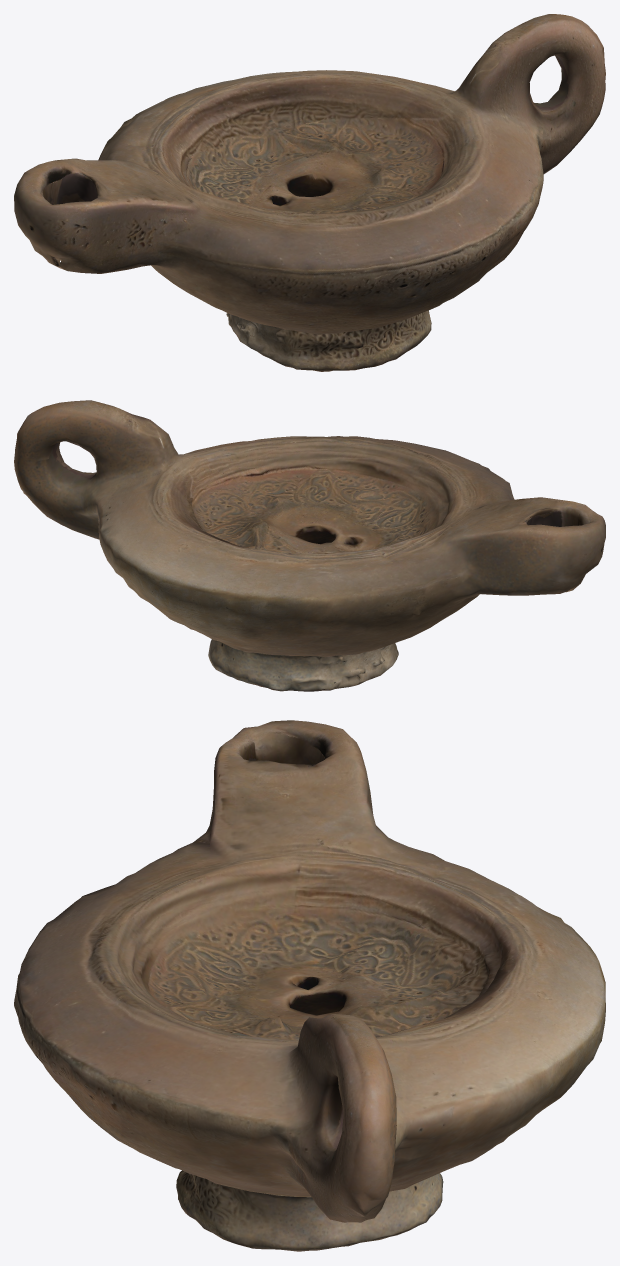
File: Ancient_Oil_Lamp_0516193953_texture.glb
3 renders of one model, top to bottom at view 1: azimuth 30°, elevation 25°; view 2: azimuth 150°, elevation 25°; view 3: azimuth 270°, elevation 25°, orthographic. The views are drawn at different scales.
Size of the model in its own units: 2 by 0.7652 by 1.28.
1 material, 1 textured.
